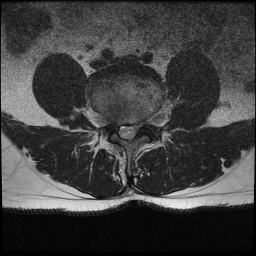CCS_severe_stenosis: (125, 116, 132, 147)
LFS_stenosis: (140, 109, 148, 134)
LLS_normal: (132, 115, 140, 143)
RFS_severe_stenosis: (108, 110, 117, 133)
RLS_normal: (117, 115, 125, 143)
